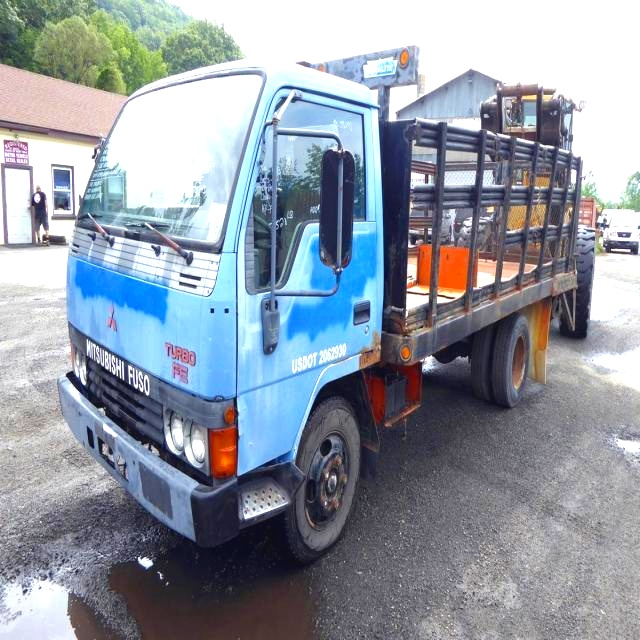truck: (34, 41, 593, 563)
